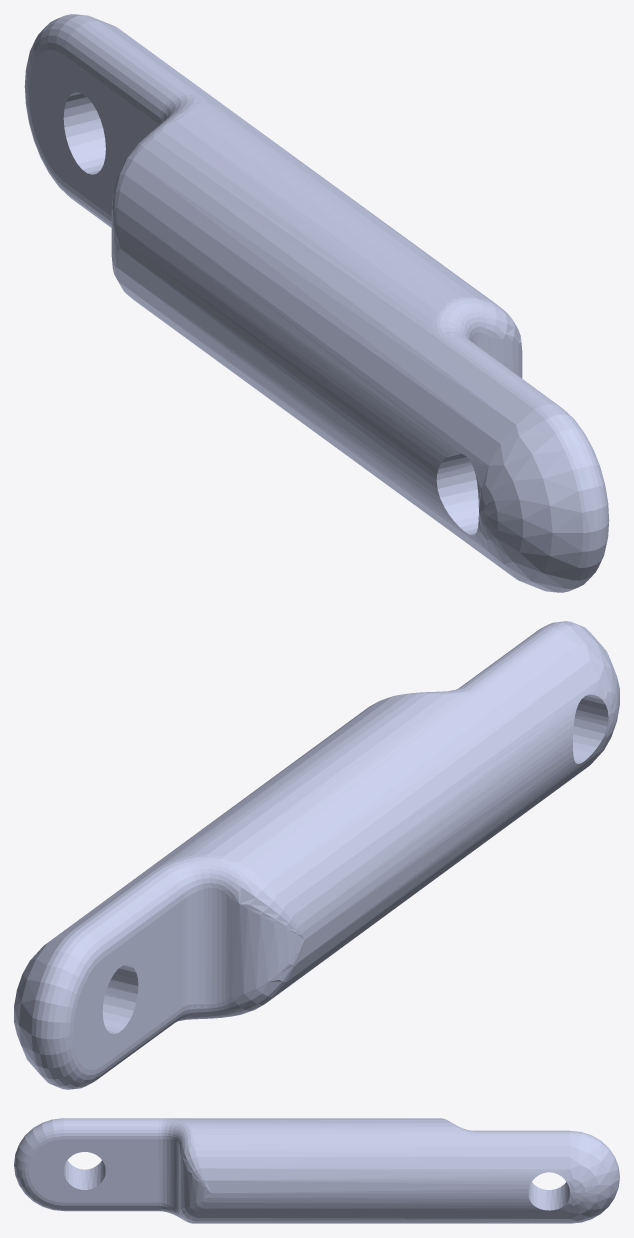
3 views of the same model, one above another, from view 1: azimuth 30°, elevation 25°; view 2: azimuth 150°, elevation 25°; view 3: azimuth 270°, elevation 25° (orthographic). The views are drawn at different scales.
Parts seen in each view (by area): view 1: node0; view 2: node0; view 3: node0.
Part boxes in pixels (x1,y1,x2,y2): node0: (24, 14, 609, 592); node0: (14, 621, 619, 1089); node0: (14, 1118, 619, 1223).
Bounding box in the file's own units: 0.05 × 0.2871 × 0.05.
